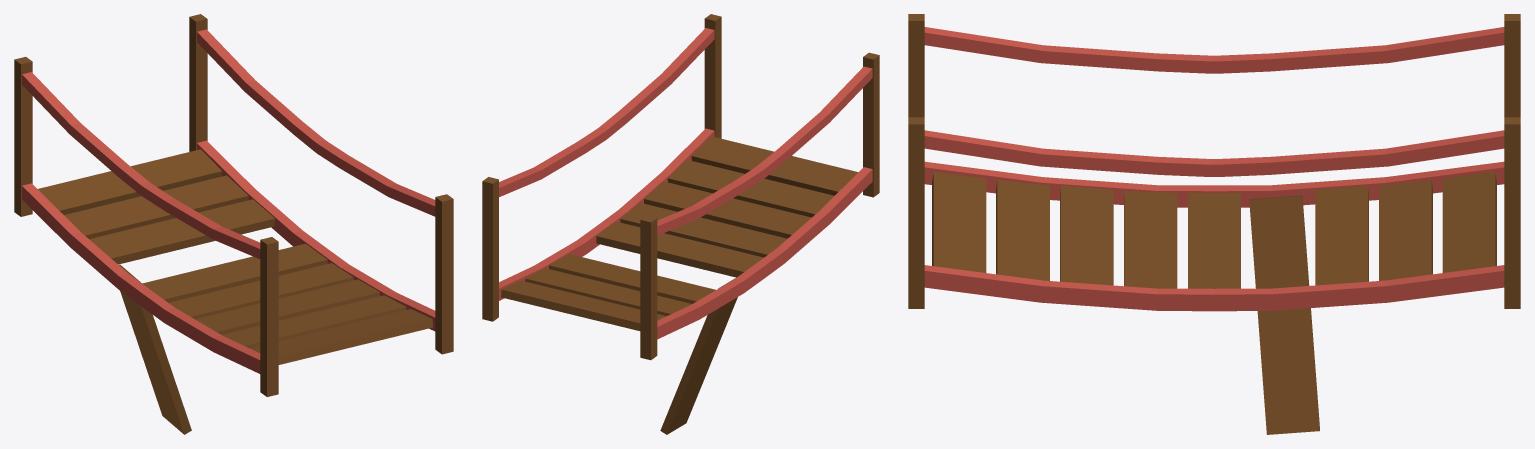
Rendered from Hängebrücke.fbx.
3 views of the same model, side by side, from view 1: azimuth 30°, elevation 25°; view 2: azimuth 150°, elevation 25°; view 3: azimuth 270°, elevation 25° (orthographic). The views are drawn at different scales.
Parts seen in each view (by area): view 1: Cube.006; view 2: Cube.006; view 3: Cube.006.
Part boxes in pixels (x1,y1,x2,y2): Cube.006: [14, 14, 453, 434]; Cube.006: [482, 14, 879, 434]; Cube.006: [908, 14, 1520, 434].
Bounding box in the file's own units: 437 × 704 × 1026.
